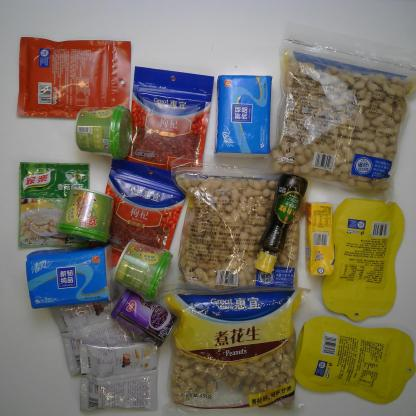Canned Food: (110, 291, 177, 347)
Dried Food: (268, 33, 411, 198), (167, 152, 301, 293), (160, 284, 307, 412)
Dried Fruit: (90, 148, 187, 273), (290, 316, 414, 404), (119, 58, 208, 178), (321, 197, 404, 322), (15, 35, 131, 120)
Drink: (306, 200, 335, 276)
Instant Drink: (50, 284, 143, 374), (78, 341, 165, 413), (114, 238, 174, 303), (57, 186, 114, 243), (72, 105, 132, 158)
Seasoner: (17, 162, 91, 248), (260, 168, 301, 274)
Tissue: (24, 246, 111, 308), (214, 74, 272, 157)
